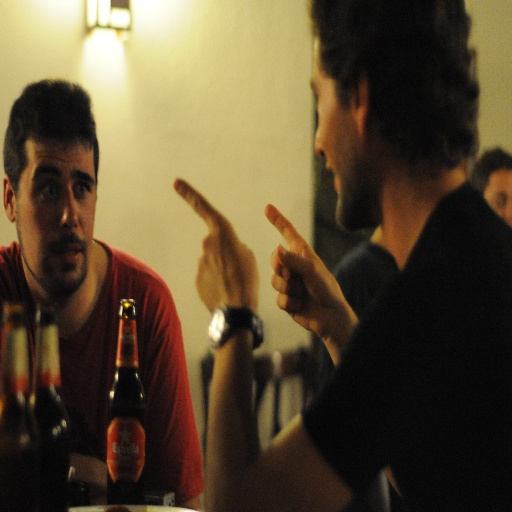hand: (263, 203, 358, 362), (173, 176, 259, 315), (69, 452, 107, 493)
